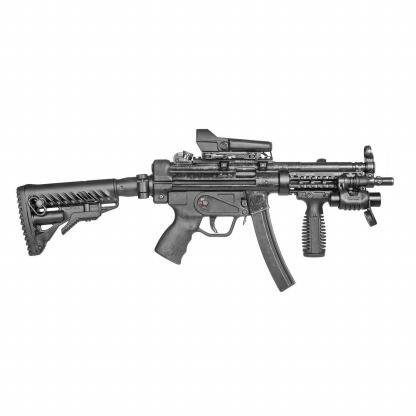Gun: (14, 129, 396, 296)
